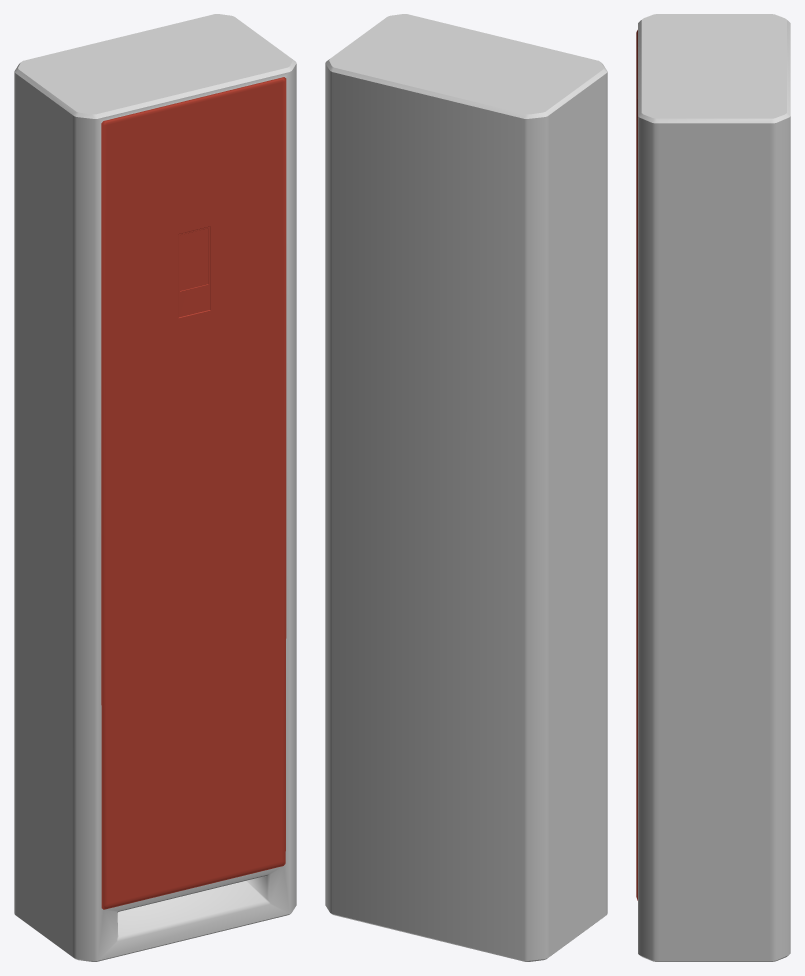
File: LPW5012DAR.FBX
The picture shows the model from 3 angles, left to right: view 1: azimuth 30°, elevation 25°; view 2: azimuth 150°, elevation 25°; view 3: azimuth 270°, elevation 25°; orthographic projection.
Parts seen in each view (by area): view 1: LPW5012DAR; view 2: LPW5012DAR; view 3: LPW5012DAR.
Boxes of the visible parts, box(x1,y1,x2,y2) form: LPW5012DAR: box(14, 14, 296, 961); LPW5012DAR: box(325, 14, 607, 961); LPW5012DAR: box(636, 14, 790, 961).
Bounding box in the file's own units: 48 × 29 × 175.
